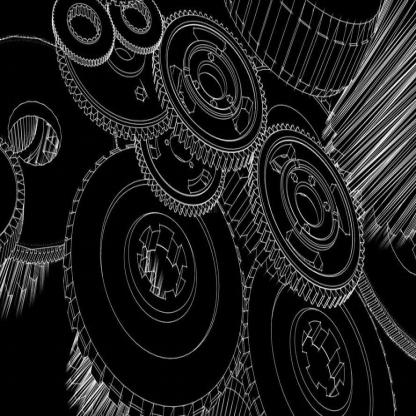FOD: (246, 120, 367, 310)
